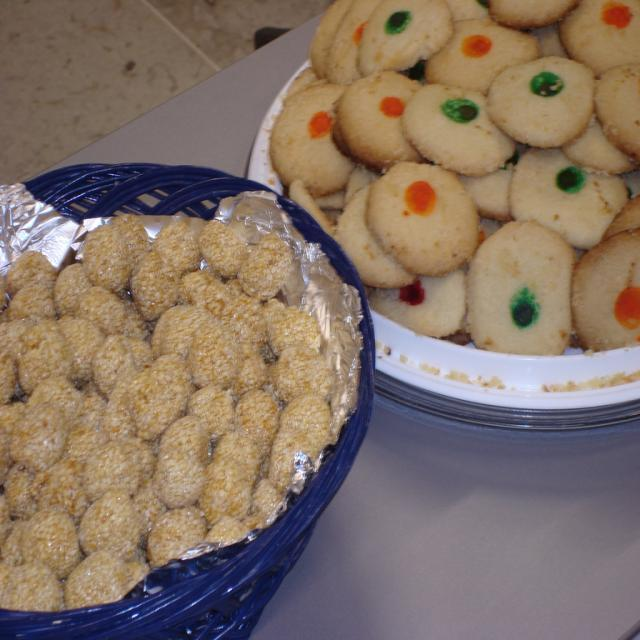Cookie: (271, 0, 639, 358)
